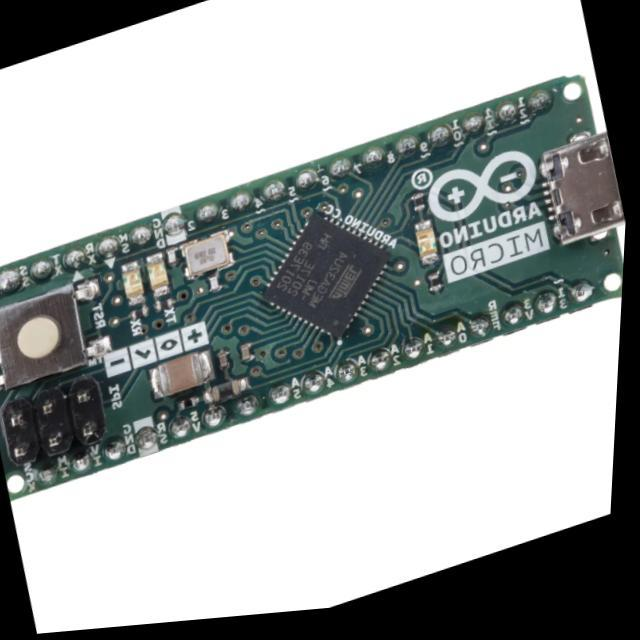Arduino-Micro: (1, 76, 625, 500)
